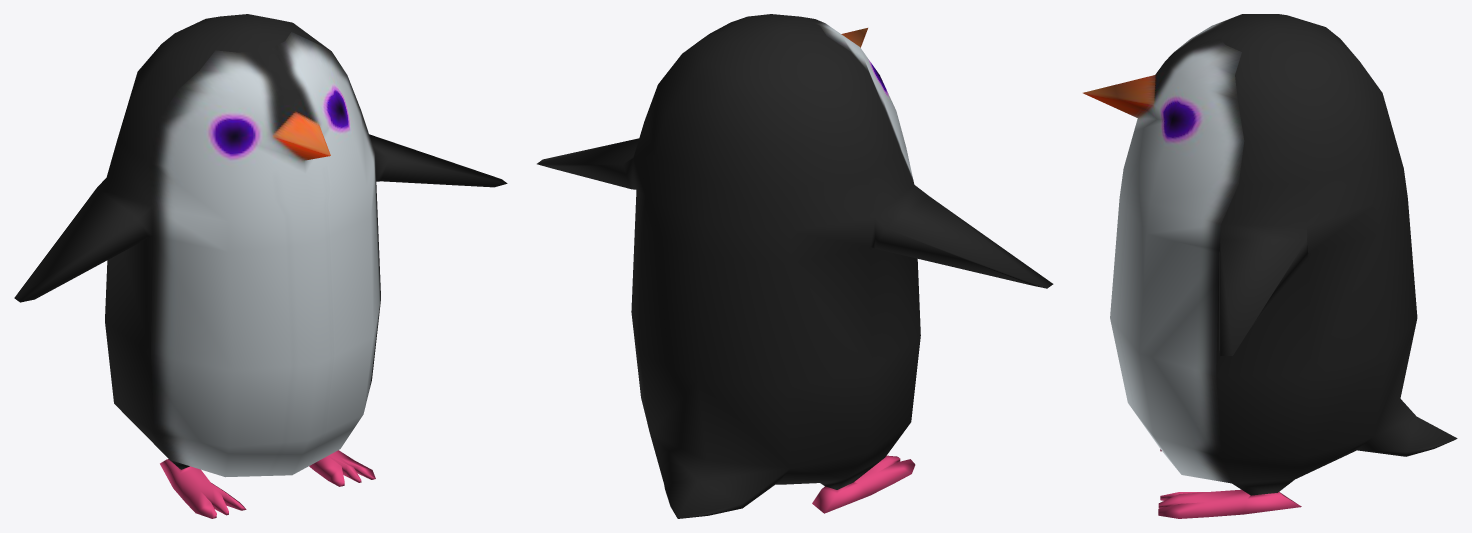
The model's file is pinguino_v3.fbx.
The picture shows the model from 3 angles, left to right: view 1: azimuth 30°, elevation 25°; view 2: azimuth 150°, elevation 25°; view 3: azimuth 270°, elevation 25°; orthographic projection. The views are drawn at different scales.
Visible parts, largest first — view 1: Pinguino; view 2: Pinguino; view 3: Pinguino.
Part boxes in pixels (bbox=[...]): Pinguino: bbox=[14, 14, 507, 518]; Pinguino: bbox=[537, 14, 1053, 518]; Pinguino: bbox=[1083, 14, 1457, 518].
Bounding box in the file's own units: 100 × 85.4 × 64.75.
